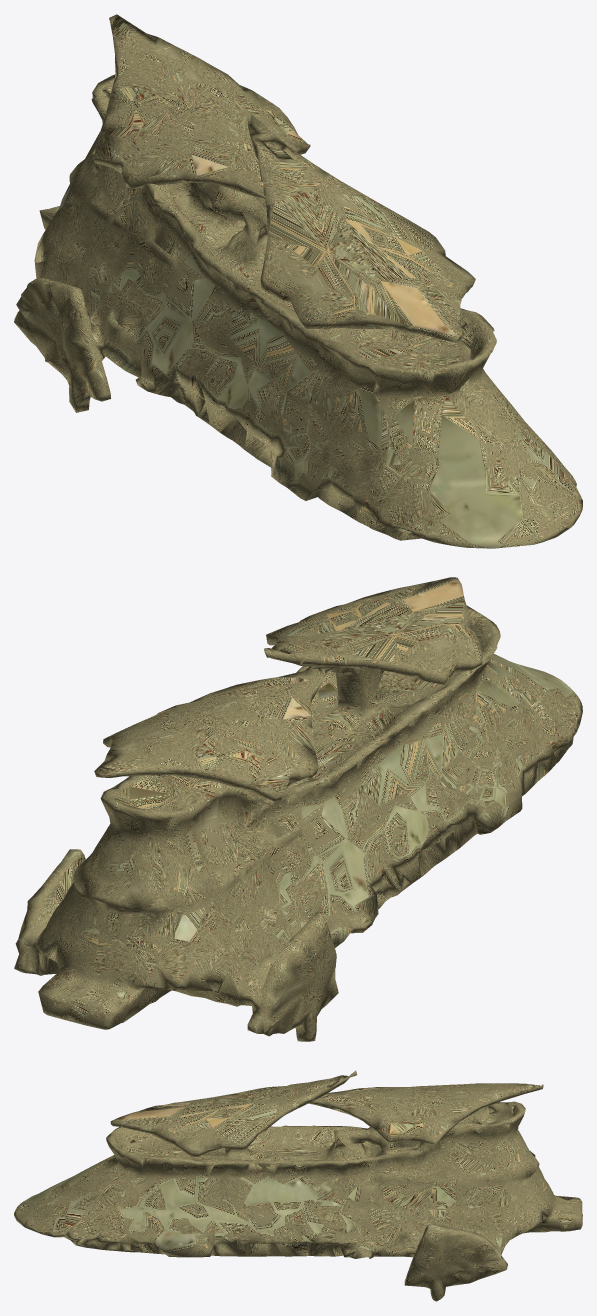
File: sailbarge.lod1.glb
3 renders of one model, top to bottom at view 1: azimuth 30°, elevation 25°; view 2: azimuth 150°, elevation 25°; view 3: azimuth 270°, elevation 25°, orthographic. The views are drawn at different scales.
Parts seen in each view (by area): view 1: Object_2; view 2: Object_2; view 3: Object_2.
Boxes of the visible parts, x1,y1,x2,y2 form: Object_2: (14, 14, 582, 548); Object_2: (14, 577, 582, 1041); Object_2: (14, 1070, 582, 1301).
Size of the model in its own units: 9.69 by 11.35 by 30.
1 material, 1 textured.
